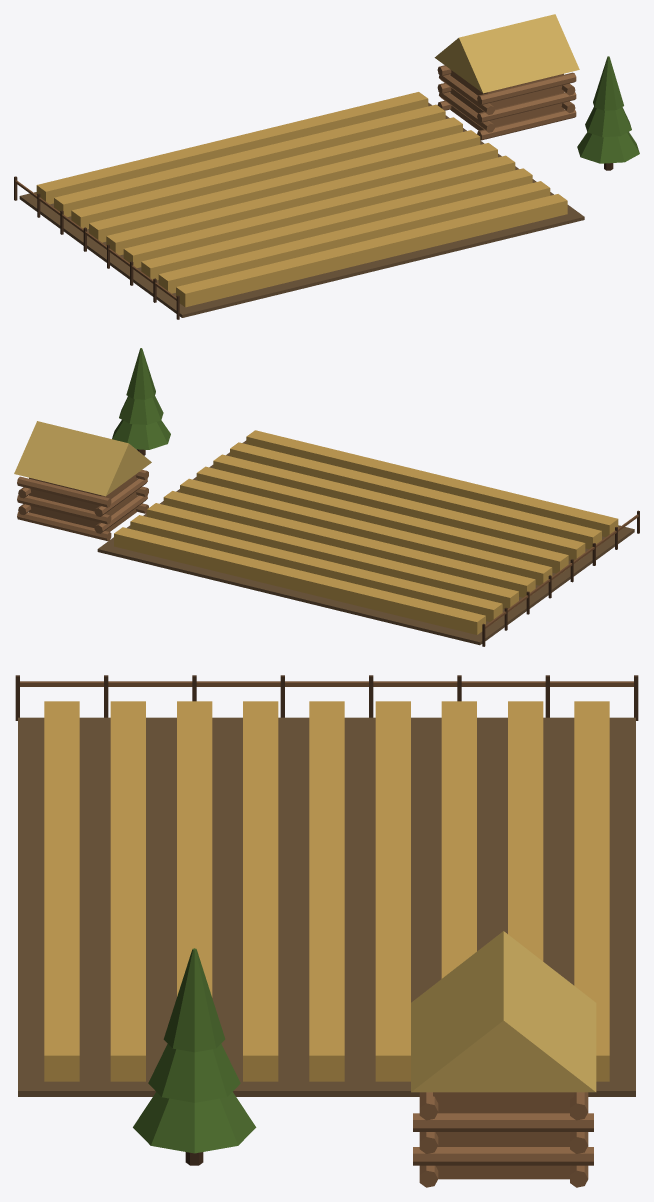
The model's file is farm.glb.
3 renders of one model, top to bottom at view 1: azimuth 30°, elevation 25°; view 2: azimuth 150°, elevation 25°; view 3: azimuth 270°, elevation 25°, orthographic. The views are drawn at different scales.
Visible parts, largest first — view 1: Farm; view 2: Farm; view 3: Farm.
Boxes of the visible parts, left/top/right/bottom form: Farm: left=14, top=14, right=639, bottom=319; Farm: left=14, top=348, right=639, bottom=646; Farm: left=15, top=675, right=638, bottom=1187.
Bounding box in the file's own units: 25.15 × 5.33 × 14.1.
